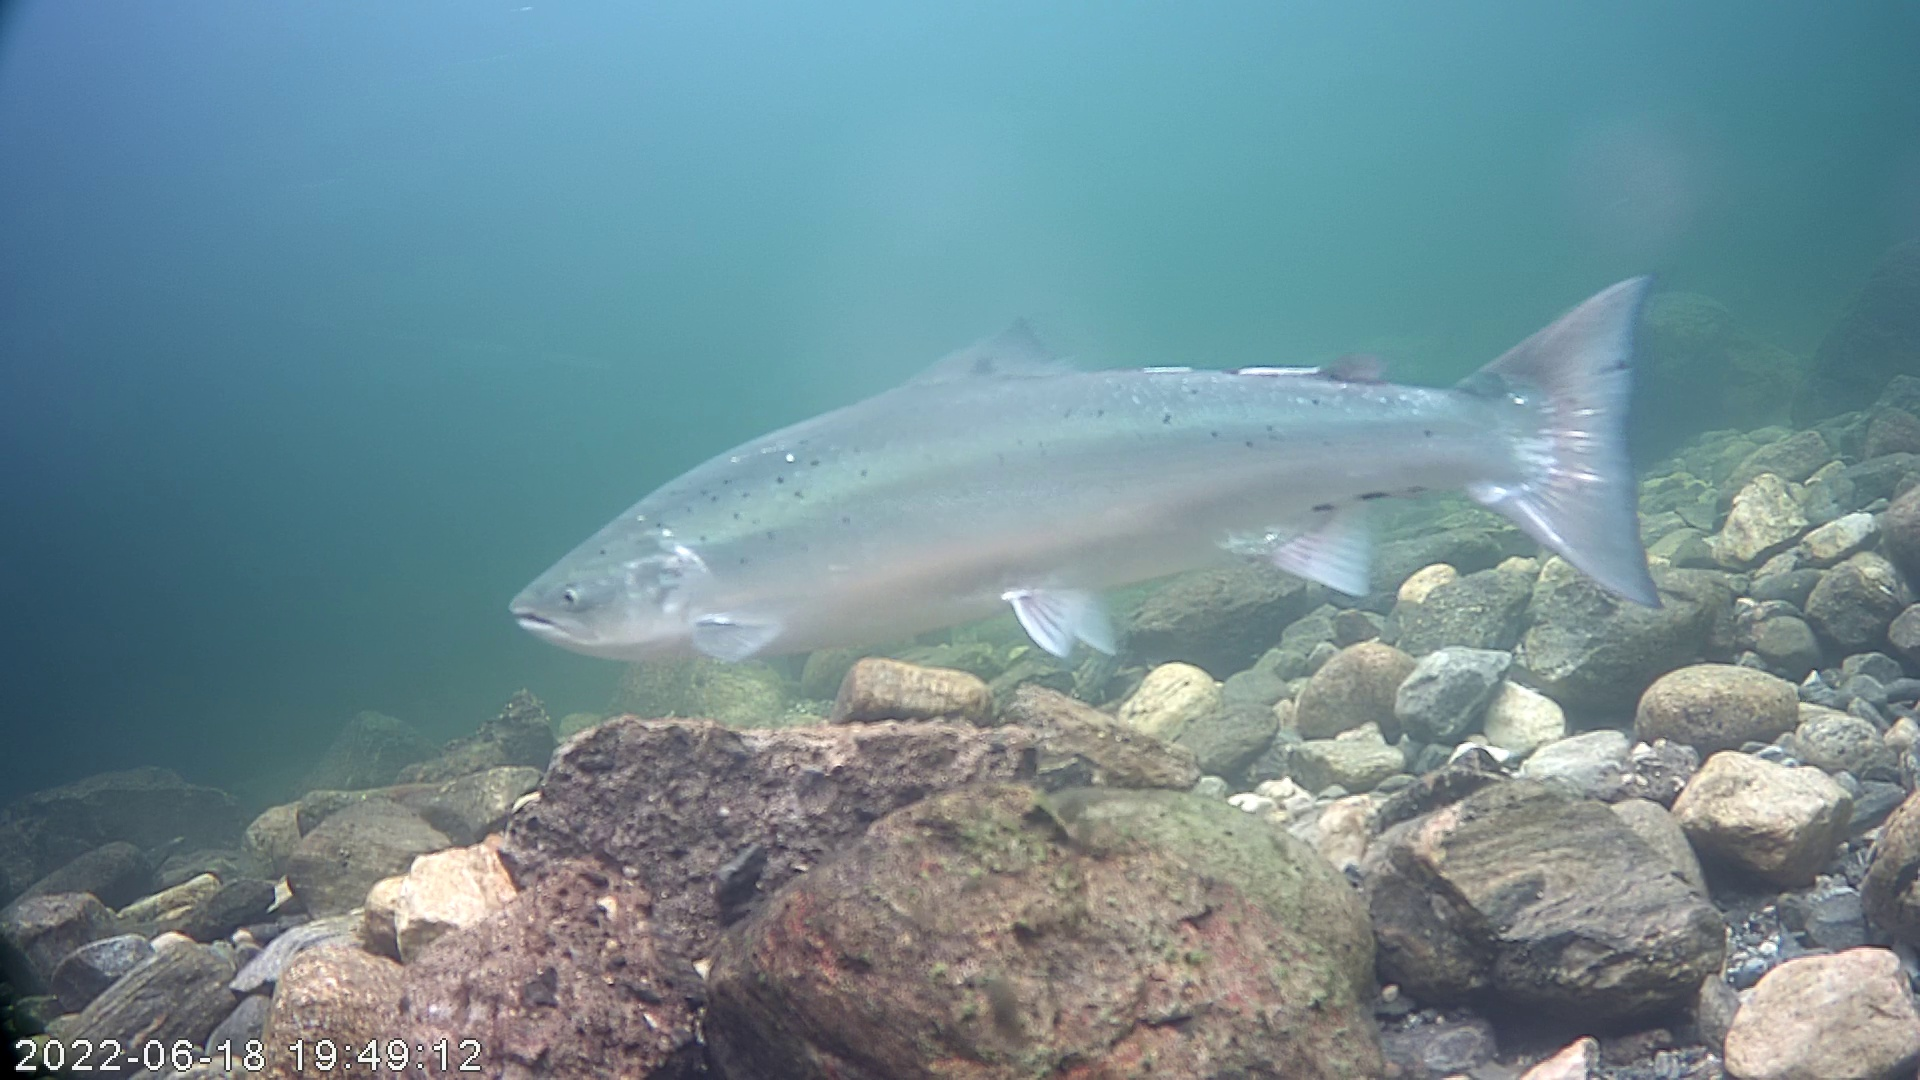salmon: (506, 269, 1667, 669)
